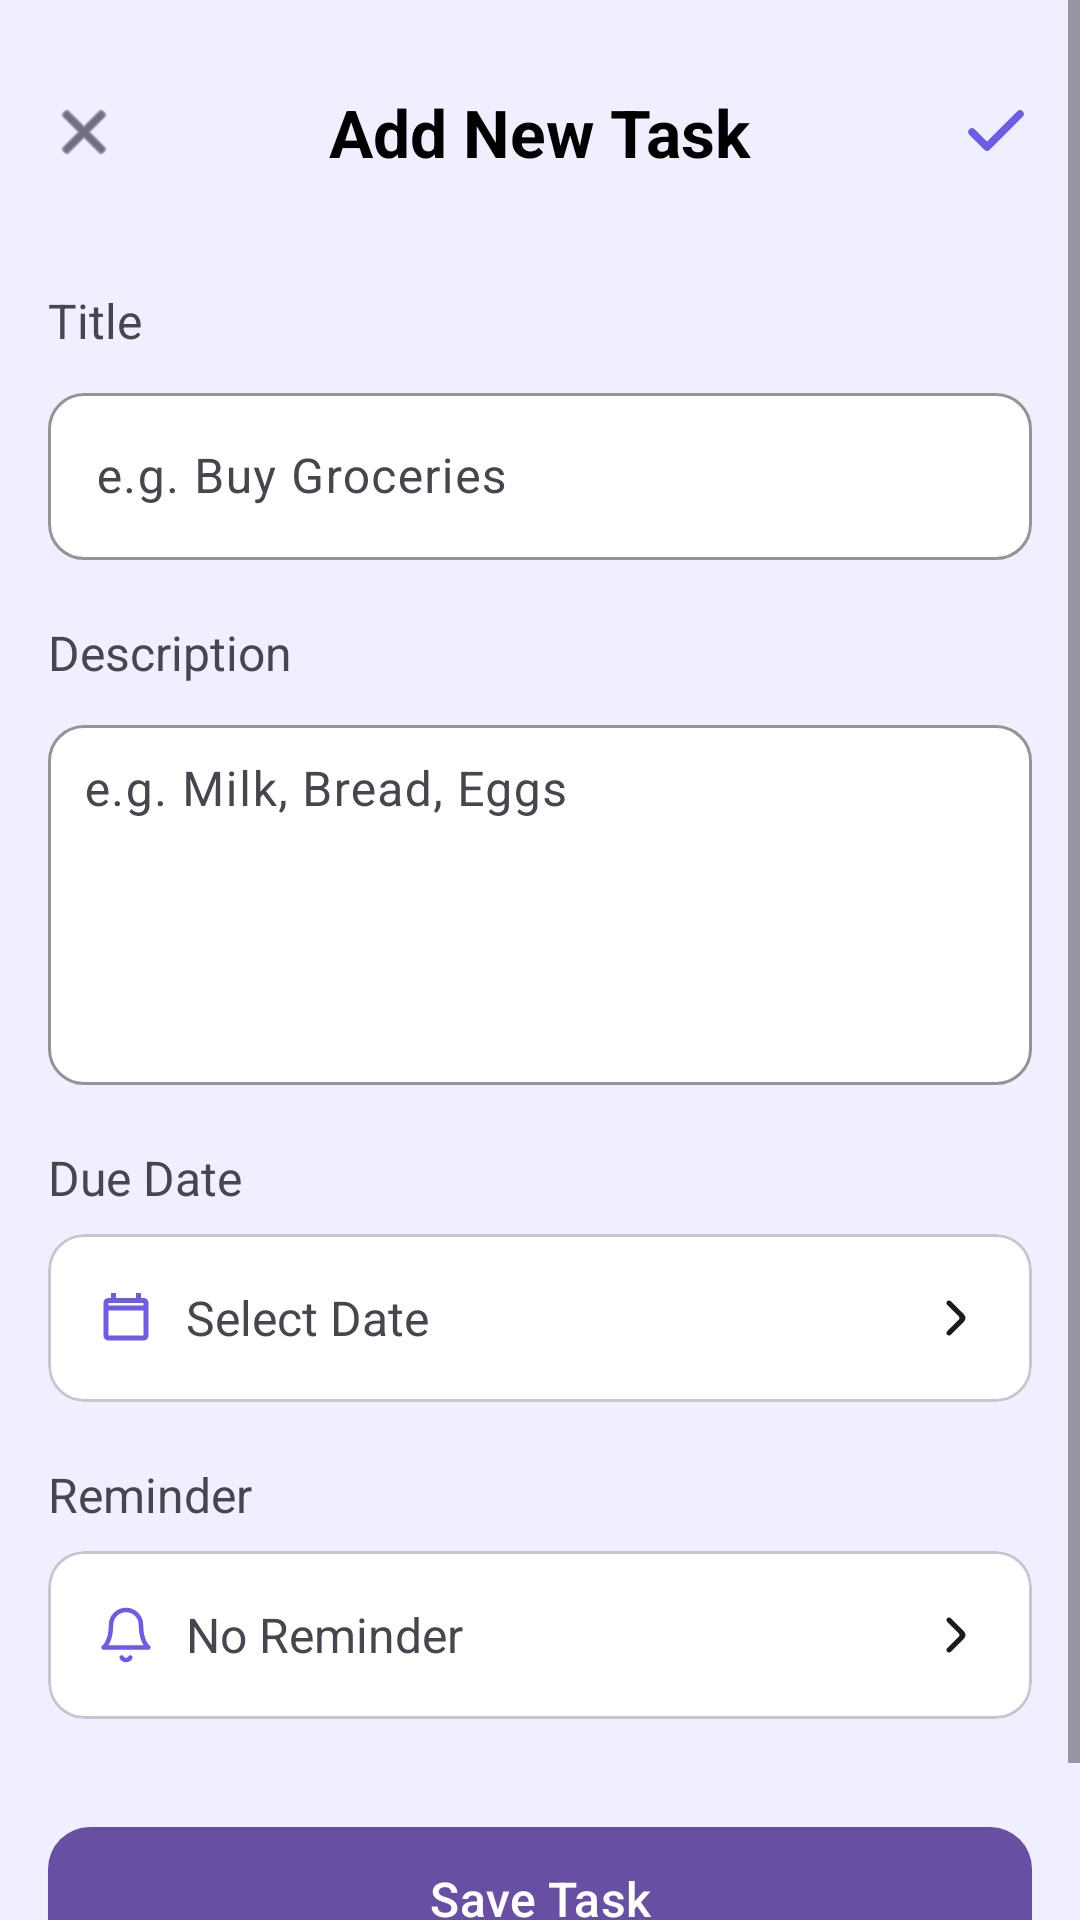

Point at icon controls on the screen. Image size 1080x1920, points as [x,y].
bell: [126,1635]
calendar: [126,1317]
check: [996,130]
close clear cancel: [84,132]
right arrow: [956,1318], [956,1635]
